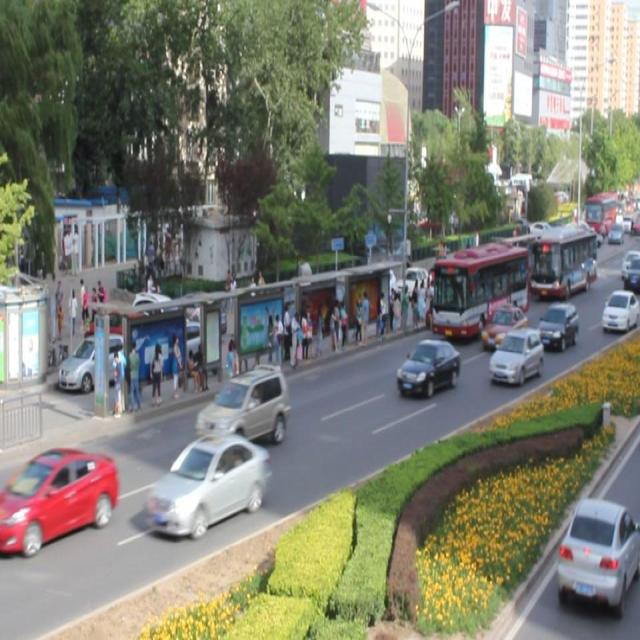car: (145, 432, 269, 536), (1, 447, 116, 554), (195, 364, 286, 446), (395, 337, 458, 395), (488, 327, 542, 384), (481, 304, 526, 351), (534, 302, 576, 351), (600, 288, 640, 333)
van: (431, 242, 526, 336), (526, 221, 593, 295)
